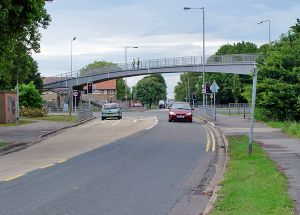bridge: (43, 54, 258, 111)
